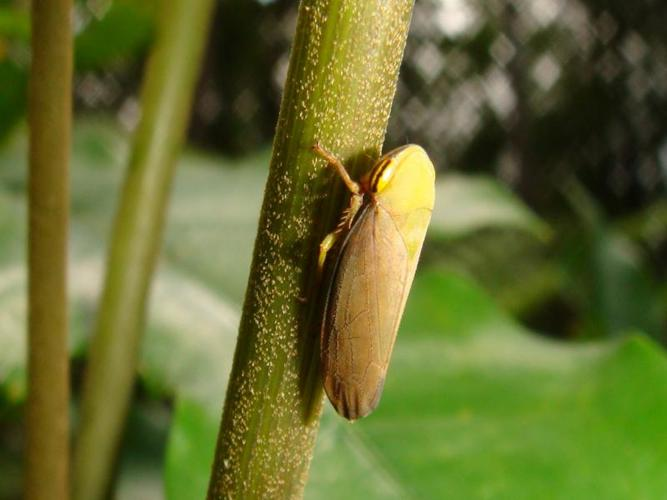Cicadellidae: (313, 143, 436, 422)
